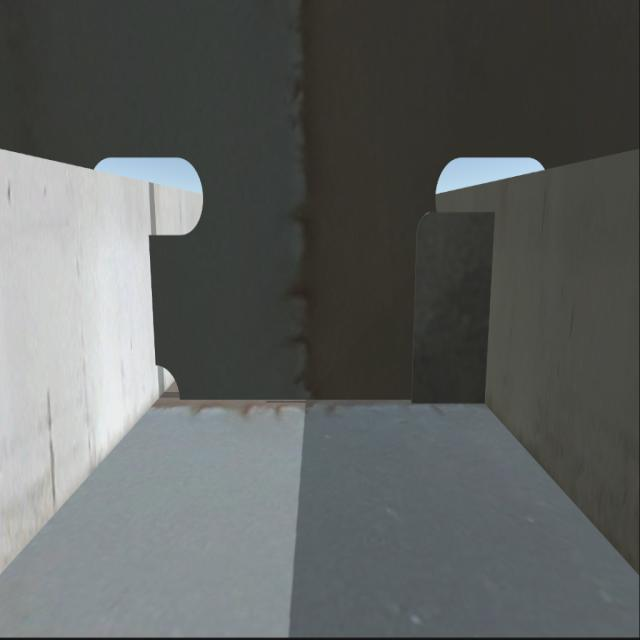fillet_hole: (155, 368, 182, 405)
fillet_yong_jeop_jang: (180, 396, 480, 404)
longi_yong_jeop_jang: (475, 211, 493, 406), (148, 234, 156, 370)
plate_CP05: (412, 210, 486, 404)
